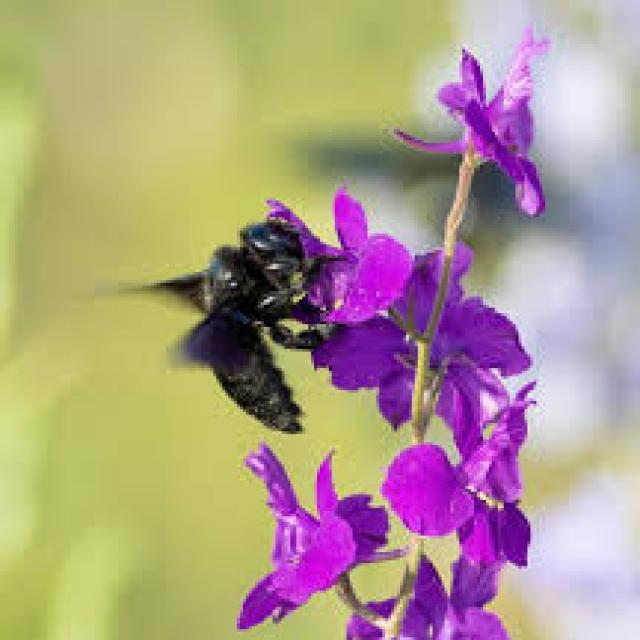Xylocopa: (159, 199, 332, 450)
